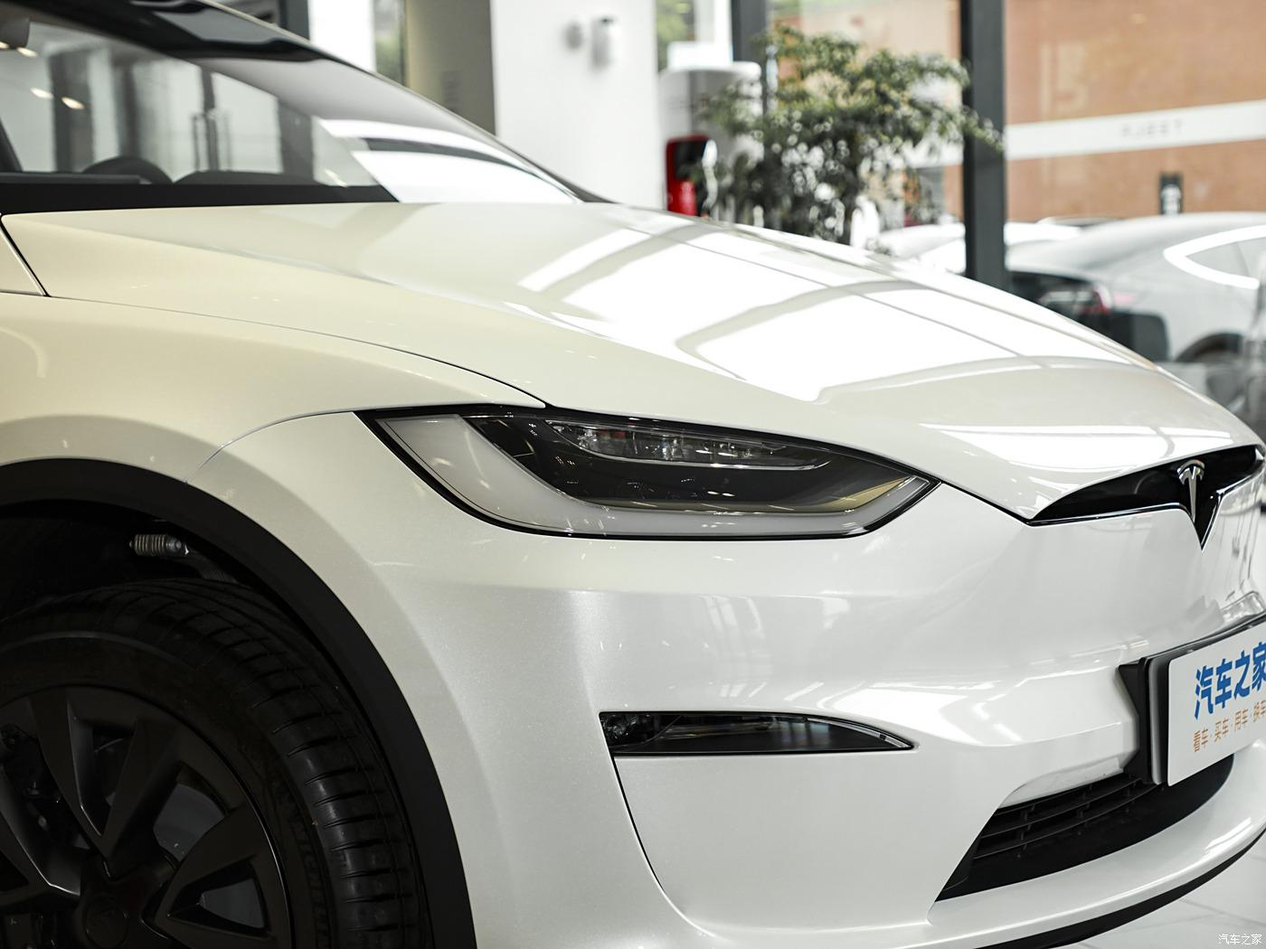Tesla: (1176, 459, 1205, 523)
